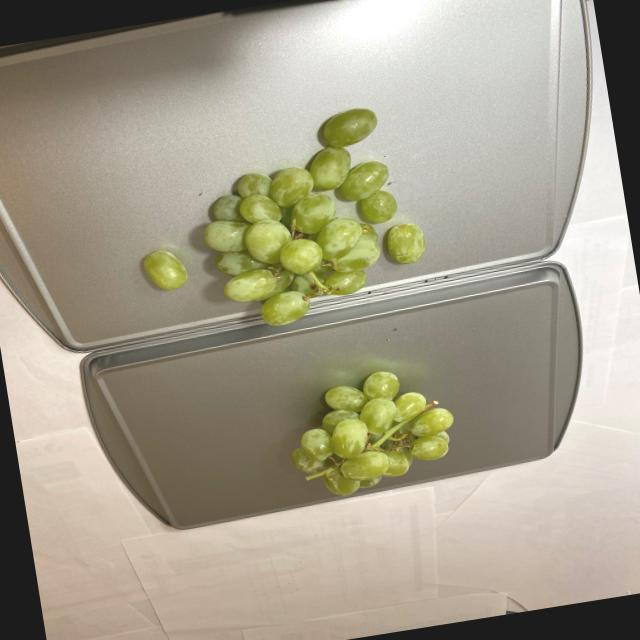grapes: (127, 99, 429, 343), (280, 361, 463, 503)
